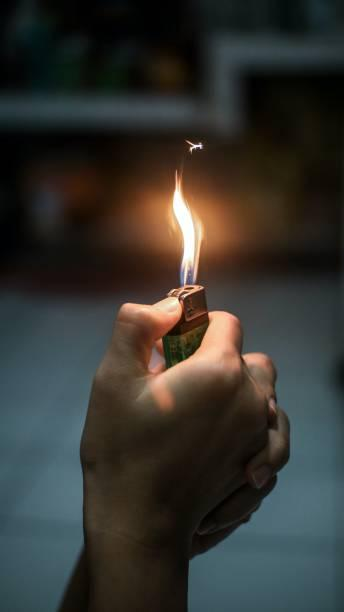Fire: (167, 170, 206, 288)
